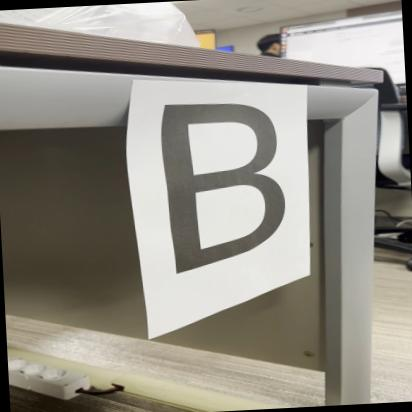seat: (154, 88, 300, 273)
